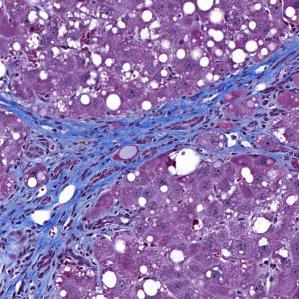fibrosis: (24, 112, 178, 206), (8, 188, 94, 285), (191, 67, 285, 144)
